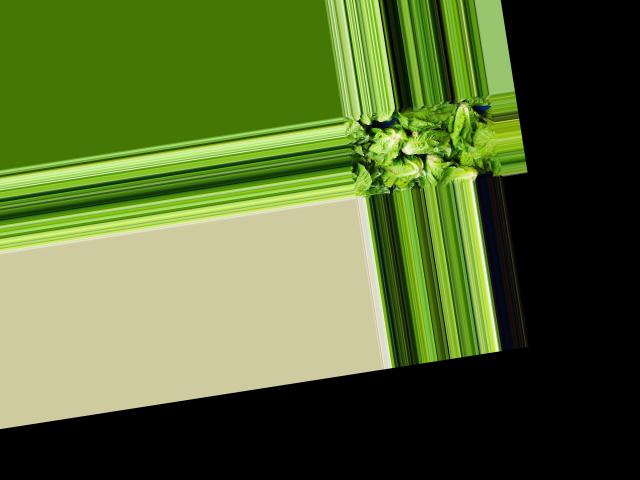lettuce: (433, 159, 485, 185)
